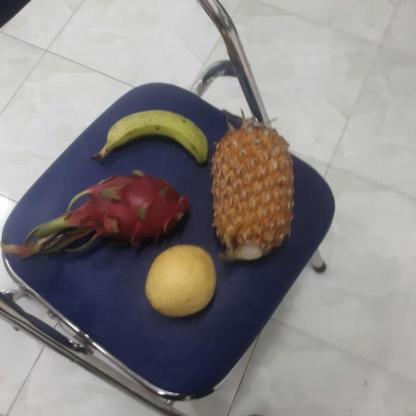annona: (210, 122, 299, 263)
banana: (108, 110, 212, 164)
pear: (142, 245, 223, 318)
pitaya: (64, 174, 196, 252)
